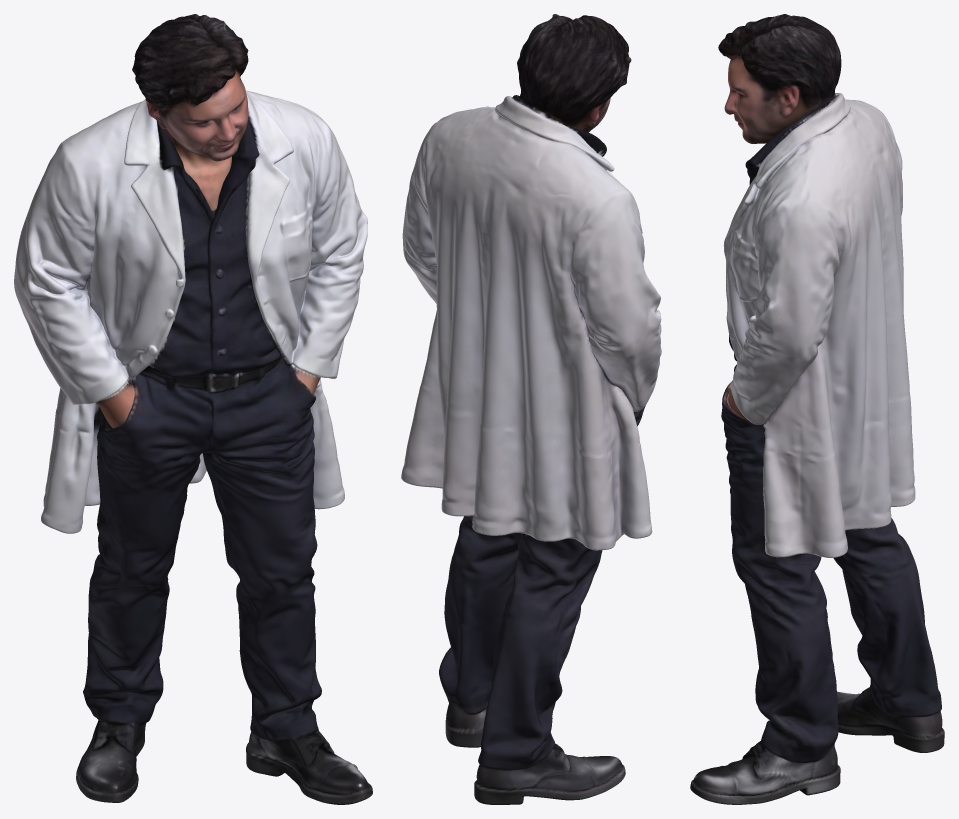
Rendered from lab+coat+doctor+3d+model.glb.
3 renders of one model, left to right at view 1: azimuth 30°, elevation 25°; view 2: azimuth 150°, elevation 25°; view 3: azimuth 270°, elevation 25°, orthographic. The views are drawn at different scales.
Visible parts, largest first — view 1: tripo_node_17fb0750-fdd1-4069-88cd-45eff3a7dd63; view 2: tripo_node_17fb0750-fdd1-4069-88cd-45eff3a7dd63; view 3: tripo_node_17fb0750-fdd1-4069-88cd-45eff3a7dd63.
Part boxes in pixels (x1,y1,x2,y2): tripo_node_17fb0750-fdd1-4069-88cd-45eff3a7dd63: (14,14,372,804); tripo_node_17fb0750-fdd1-4069-88cd-45eff3a7dd63: (401,14,661,804); tripo_node_17fb0750-fdd1-4069-88cd-45eff3a7dd63: (690,14,944,804).
Bounding box in the file's own units: 0.4001 × 1 × 0.3167.
1 material, 1 textured.
